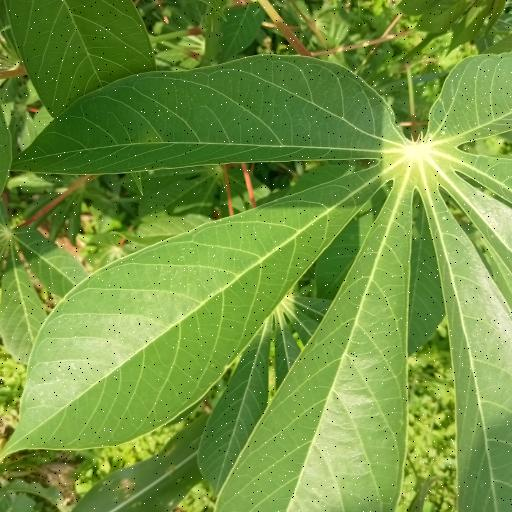Cassava_Healthy: (2, 51, 511, 512)
